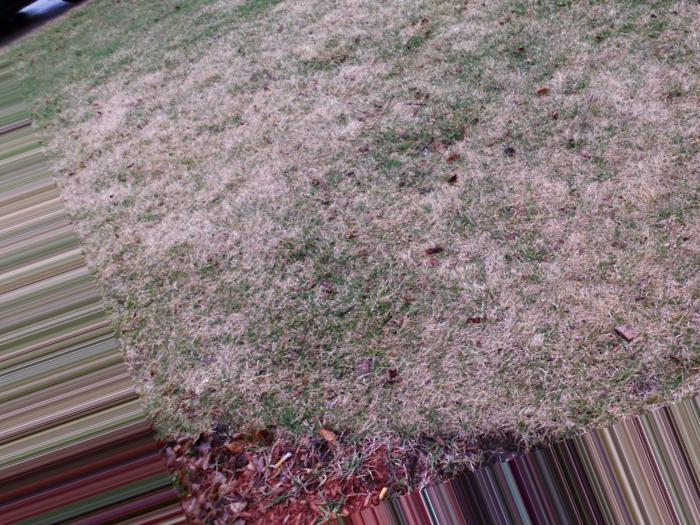patch: (441, 134, 587, 327), (99, 100, 275, 243), (254, 55, 432, 193), (133, 253, 303, 387), (574, 108, 700, 281), (392, 325, 544, 414)
